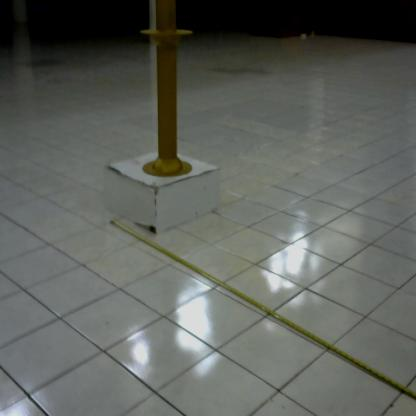pole: (136, 1, 202, 185)
